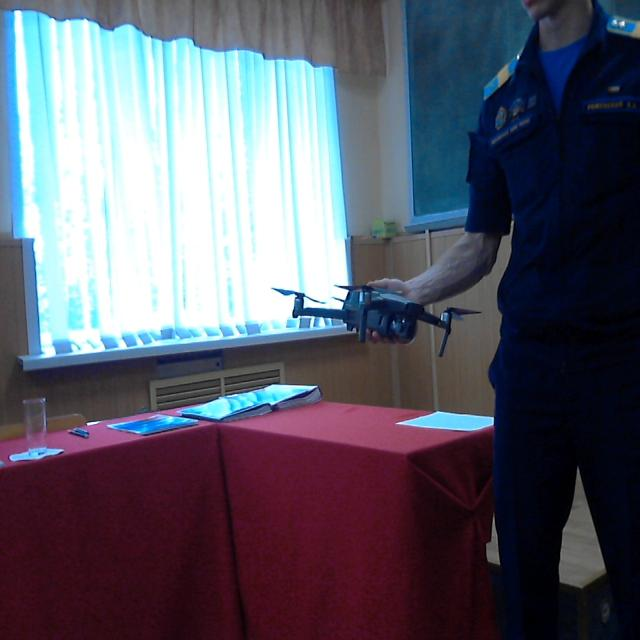drone: (273, 251, 477, 363)
